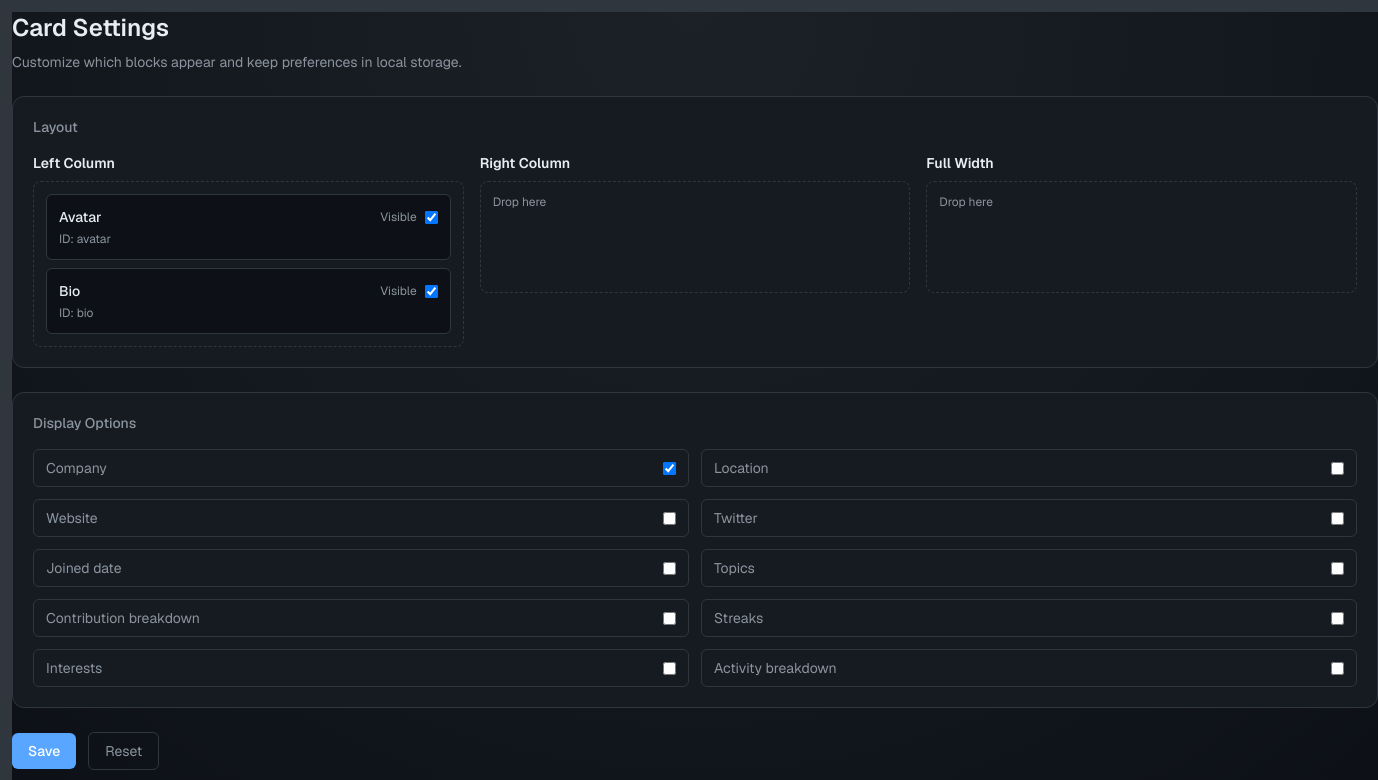
Test: DashboardSettingsClient › handles reset action
This screenshot has width=1378, height=780.
Click the button "Reset" at x=124, y=751, box [88,732,159,770]
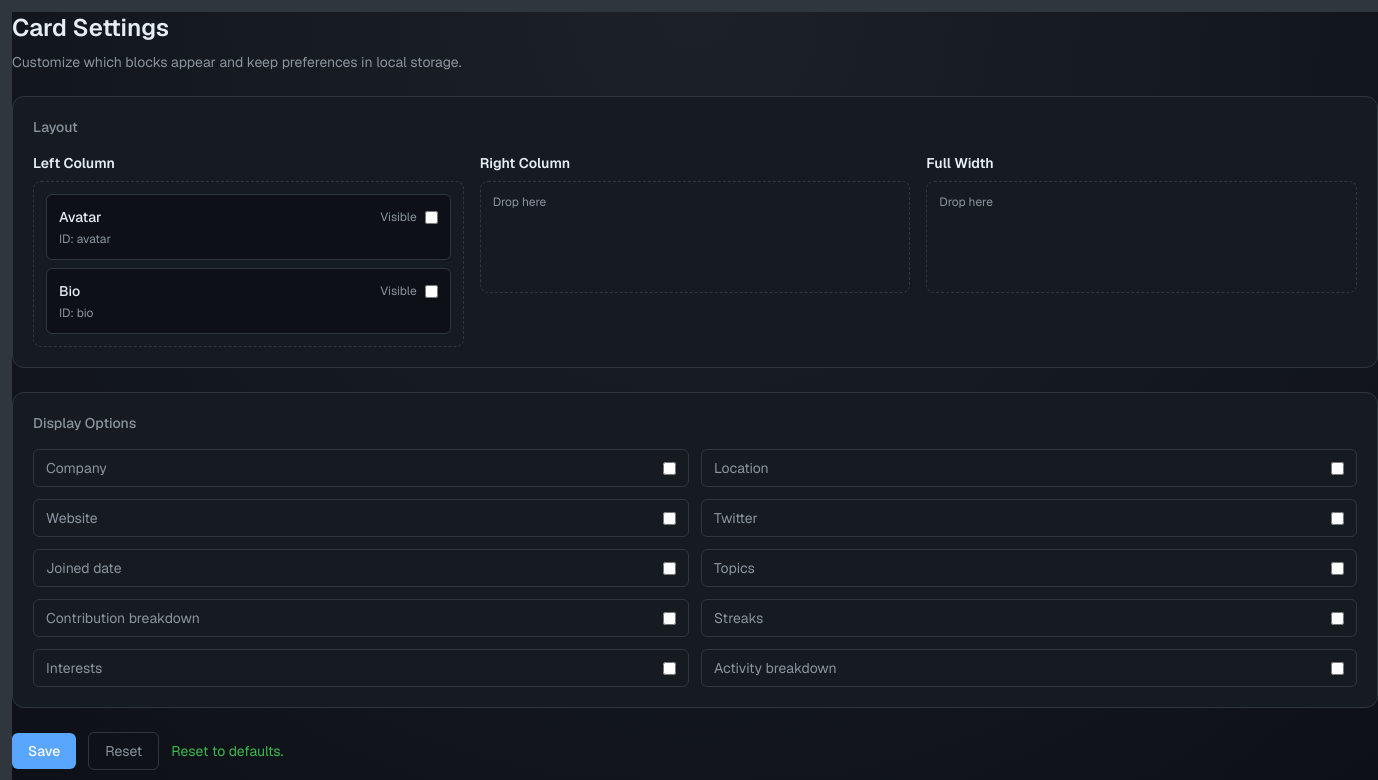
Now the text "Reset to defaults." is shown, box [171,741,284,761]
